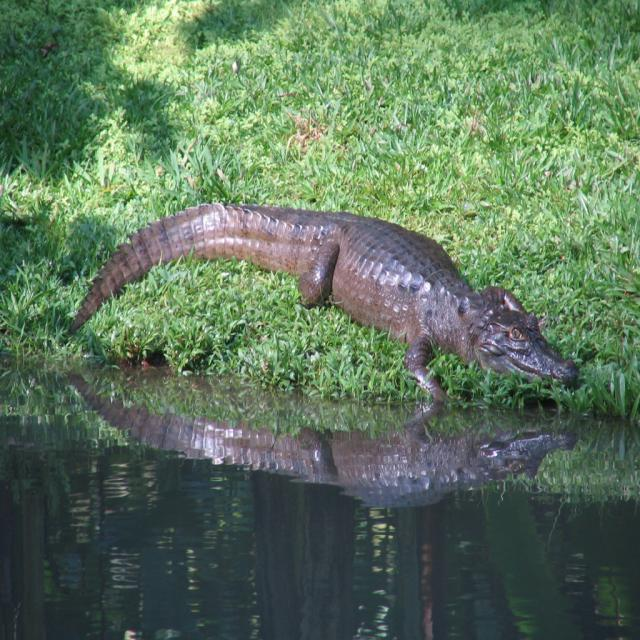crocodile: (64, 184, 596, 495)
